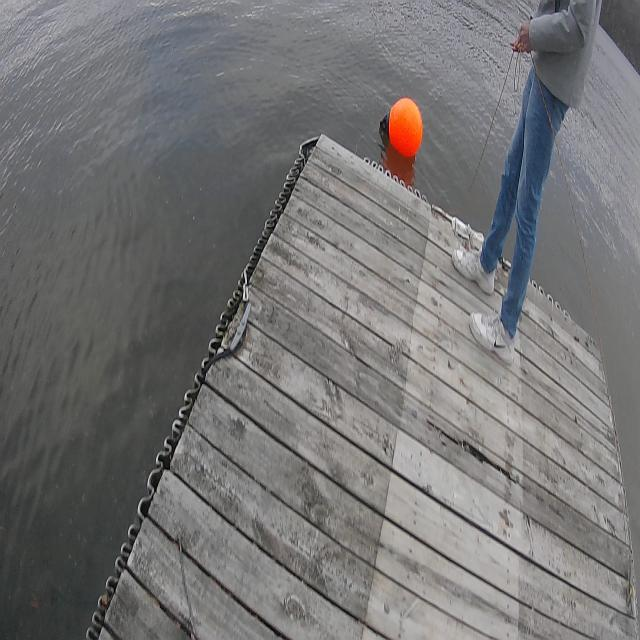Buoy: (378, 93, 426, 165)
